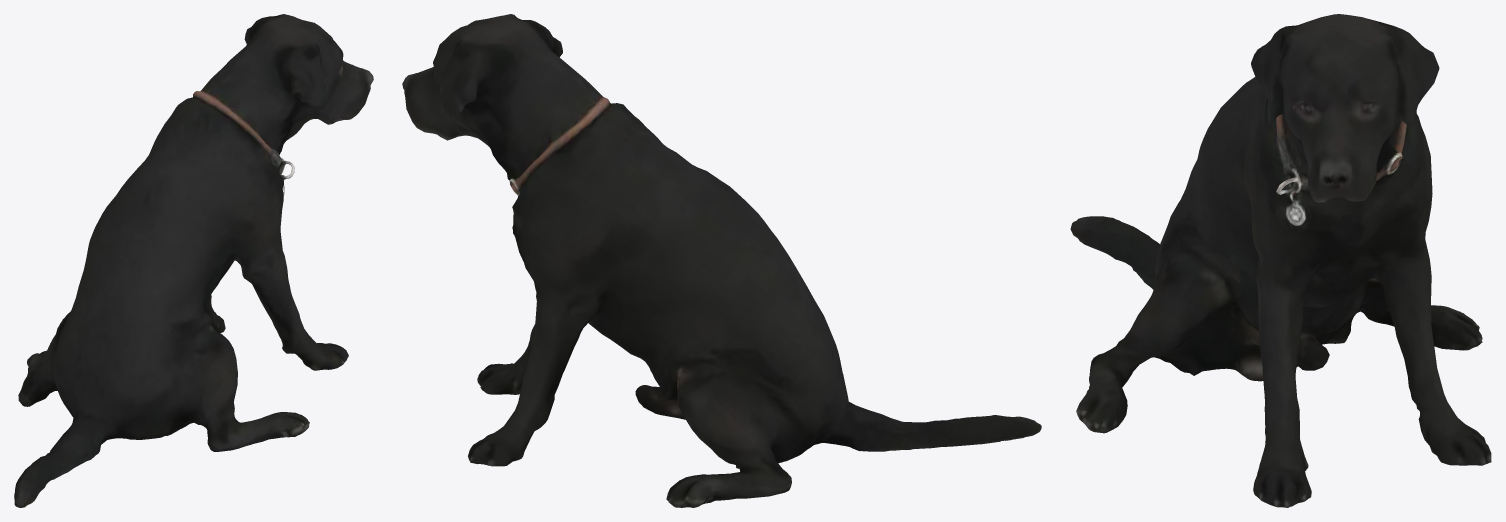
The model's file is dog-a.glb.
The picture shows the model from 3 angles, left to right: view 1: azimuth 30°, elevation 25°; view 2: azimuth 150°, elevation 25°; view 3: azimuth 270°, elevation 25°; orthographic projection. The views are drawn at different scales.
Parts seen in each view (by area): view 1: DOG_Anton_E_mat27_0; view 2: DOG_Anton_E_mat27_0; view 3: DOG_Anton_E_mat27_0.
Boxes of the visible parts, <box> form: DOG_Anton_E_mat27_0: <box>14,14,373,507</box>; DOG_Anton_E_mat27_0: <box>402,14,1041,507</box>; DOG_Anton_E_mat27_0: <box>1070,14,1491,507</box>.
Bounding box in the file's own units: 0.7888 × 0.5497 × 0.454.
Materials: 1 (1 with a texture image).
